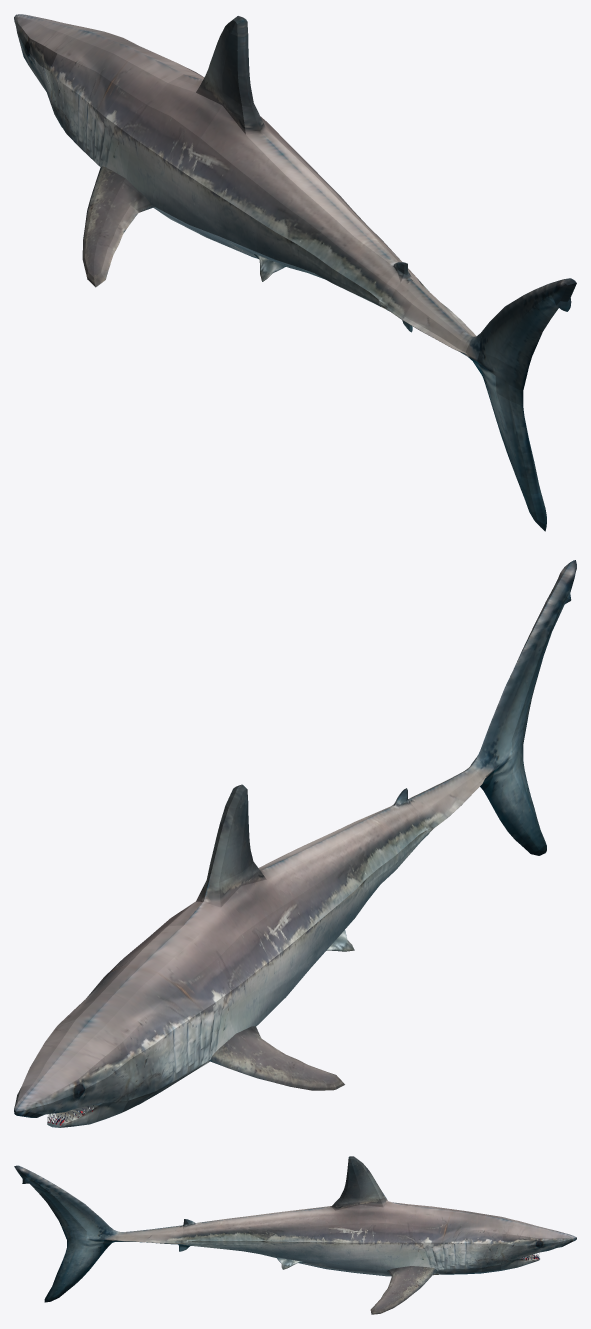
Rendered from isurus-oxyrinchus_static_parts.glb.
3 views of the same model, one above another, from view 1: azimuth 30°, elevation 25°; view 2: azimuth 150°, elevation 25°; view 3: azimuth 270°, elevation 25° (orthographic). The views are drawn at different scales.
Visible parts, largest first — view 1: shortfinmako, shortfinmako.pectoral-fins.l; view 2: shortfinmako, shortfinmako.pectoral-fins.l; view 3: shortfinmako, shortfinmako.pectoral-fins.r.
Part boxes in pixels (box(x1,y1,x2,y2)): shortfinmako: box(14, 14, 576, 531); shortfinmako.pectoral-fins.l: box(82, 166, 154, 287); shortfinmako: box(14, 560, 576, 1127); shortfinmako.pectoral-fins.l: box(209, 1026, 344, 1090); shortfinmako: box(14, 1156, 576, 1302); shortfinmako.pectoral-fins.r: box(370, 1266, 436, 1314).
Bounding box in the file's own units: 10.34 × 11.53 × 40.18.
2 materials, 2 textured.
